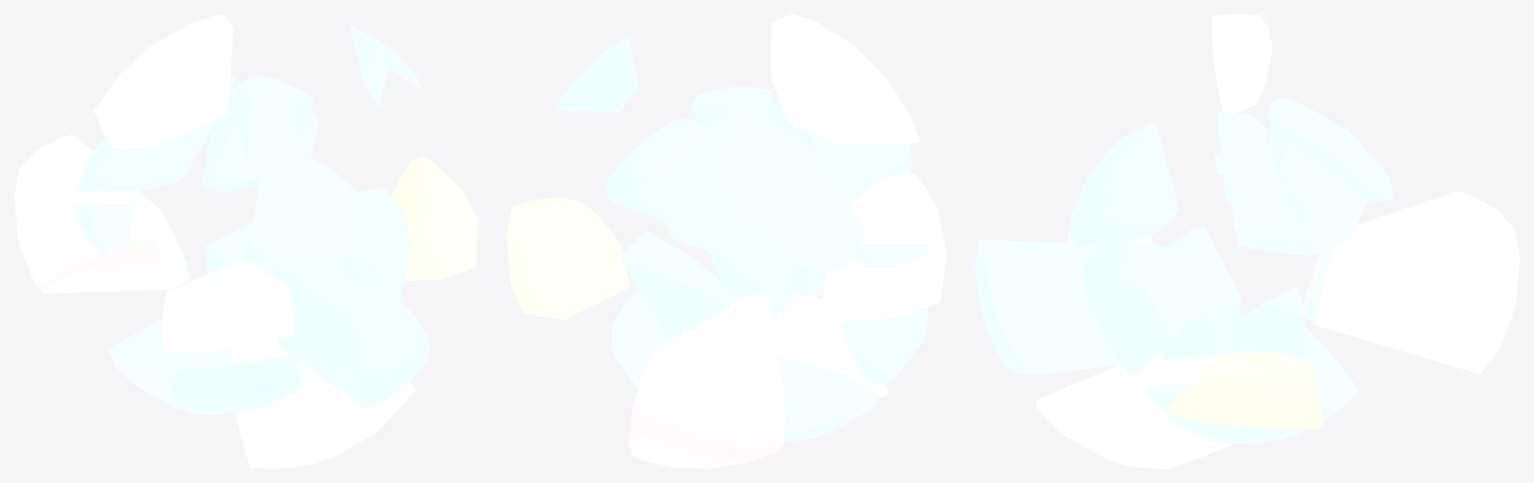
File: abstractball3.2.glb
3 renders of one model, left to right at view 1: azimuth 30°, elevation 25°; view 2: azimuth 150°, elevation 25°; view 3: azimuth 270°, elevation 25°, orthographic. The views are drawn at different scales.
Visible parts, largest first — view 1: Voronoi_Fracture.3; view 2: Voronoi_Fracture.3; view 3: Voronoi_Fracture.3.
Part boxes in pixels (x1,y1,x2,y2): Voronoi_Fracture.3: (14, 14, 477, 468); Voronoi_Fracture.3: (506, 14, 946, 468); Voronoi_Fracture.3: (975, 14, 1519, 468).
Size of what is drawn, in the model's own units: 4.62 by 4.92 by 5.77.
1 material, 1 textured.
